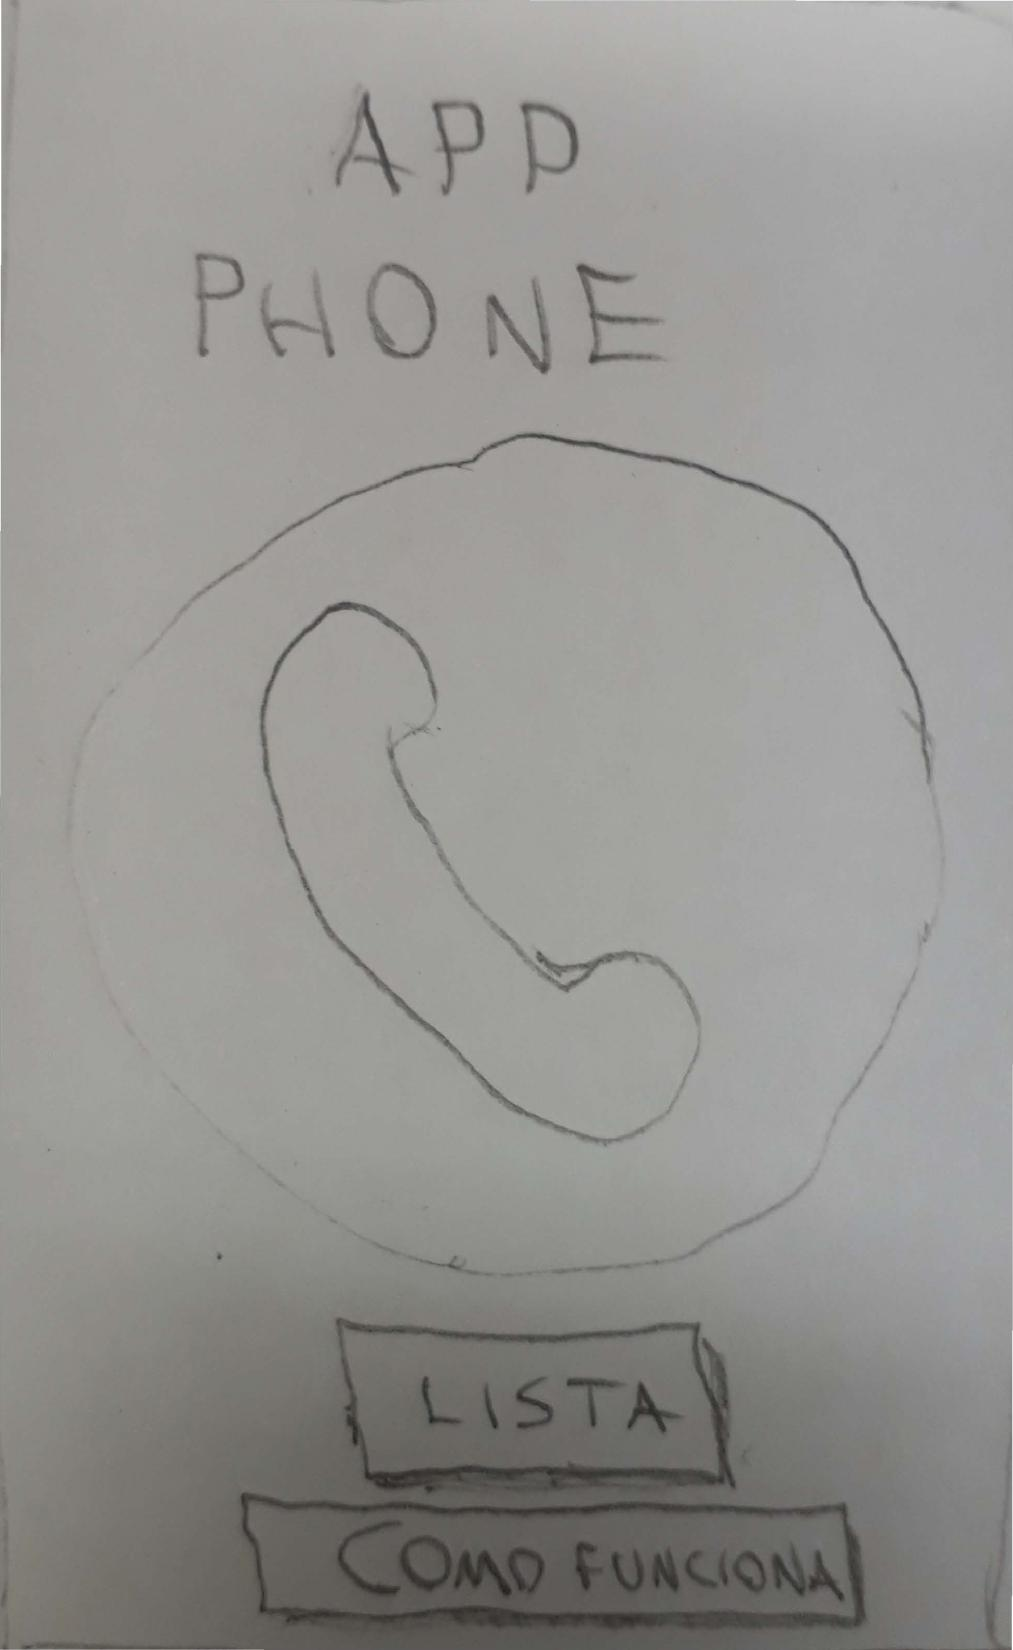Button: (237, 1501, 862, 1618), (329, 1320, 729, 1483)
Image: (68, 417, 951, 1276)
Label: (174, 84, 689, 365)
Screen: (0, 0, 1007, 1642)
